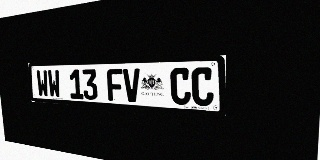1: (69, 69, 84, 99)
3: (82, 69, 98, 100)
C: (191, 67, 214, 107), (170, 67, 191, 105)
F: (107, 69, 124, 102)
V: (123, 68, 141, 102)
W: (47, 70, 61, 98), (36, 70, 49, 97)
